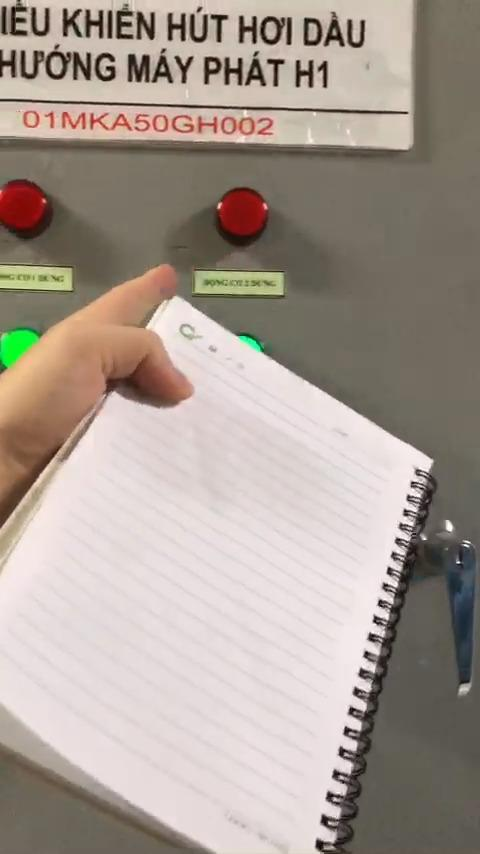led: (208, 185, 269, 242), (0, 181, 54, 236), (2, 328, 47, 370)
